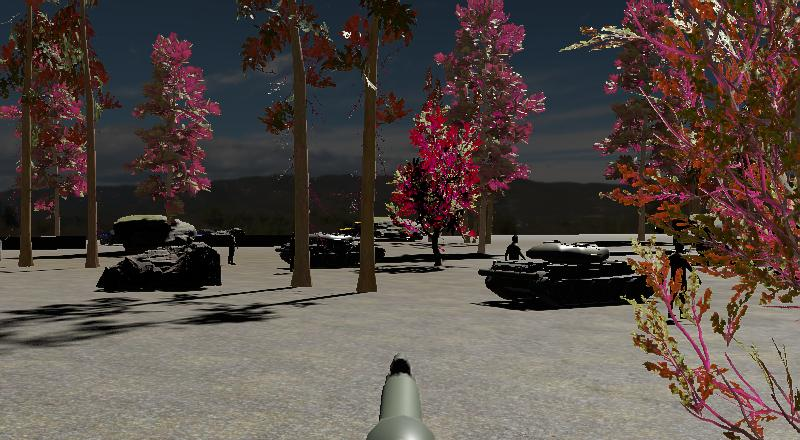Tank: (476, 236, 658, 311), (270, 224, 387, 269)
